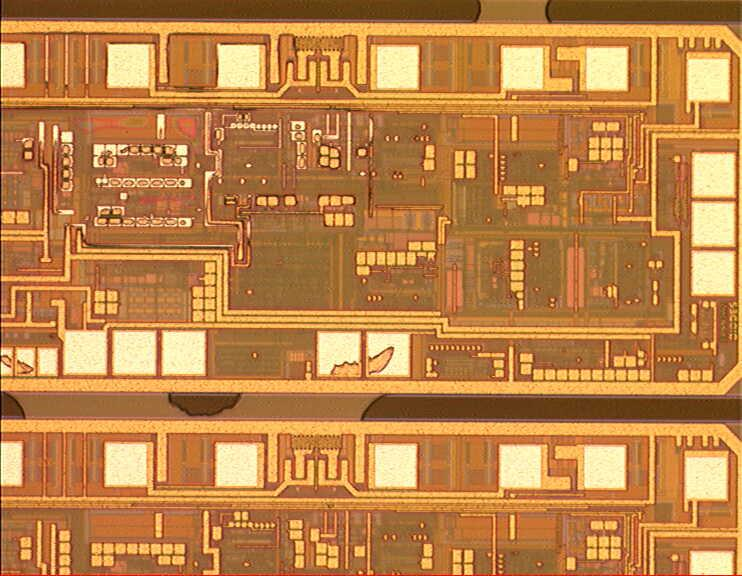BLOCK ETCH: (1, 1, 554, 422)
